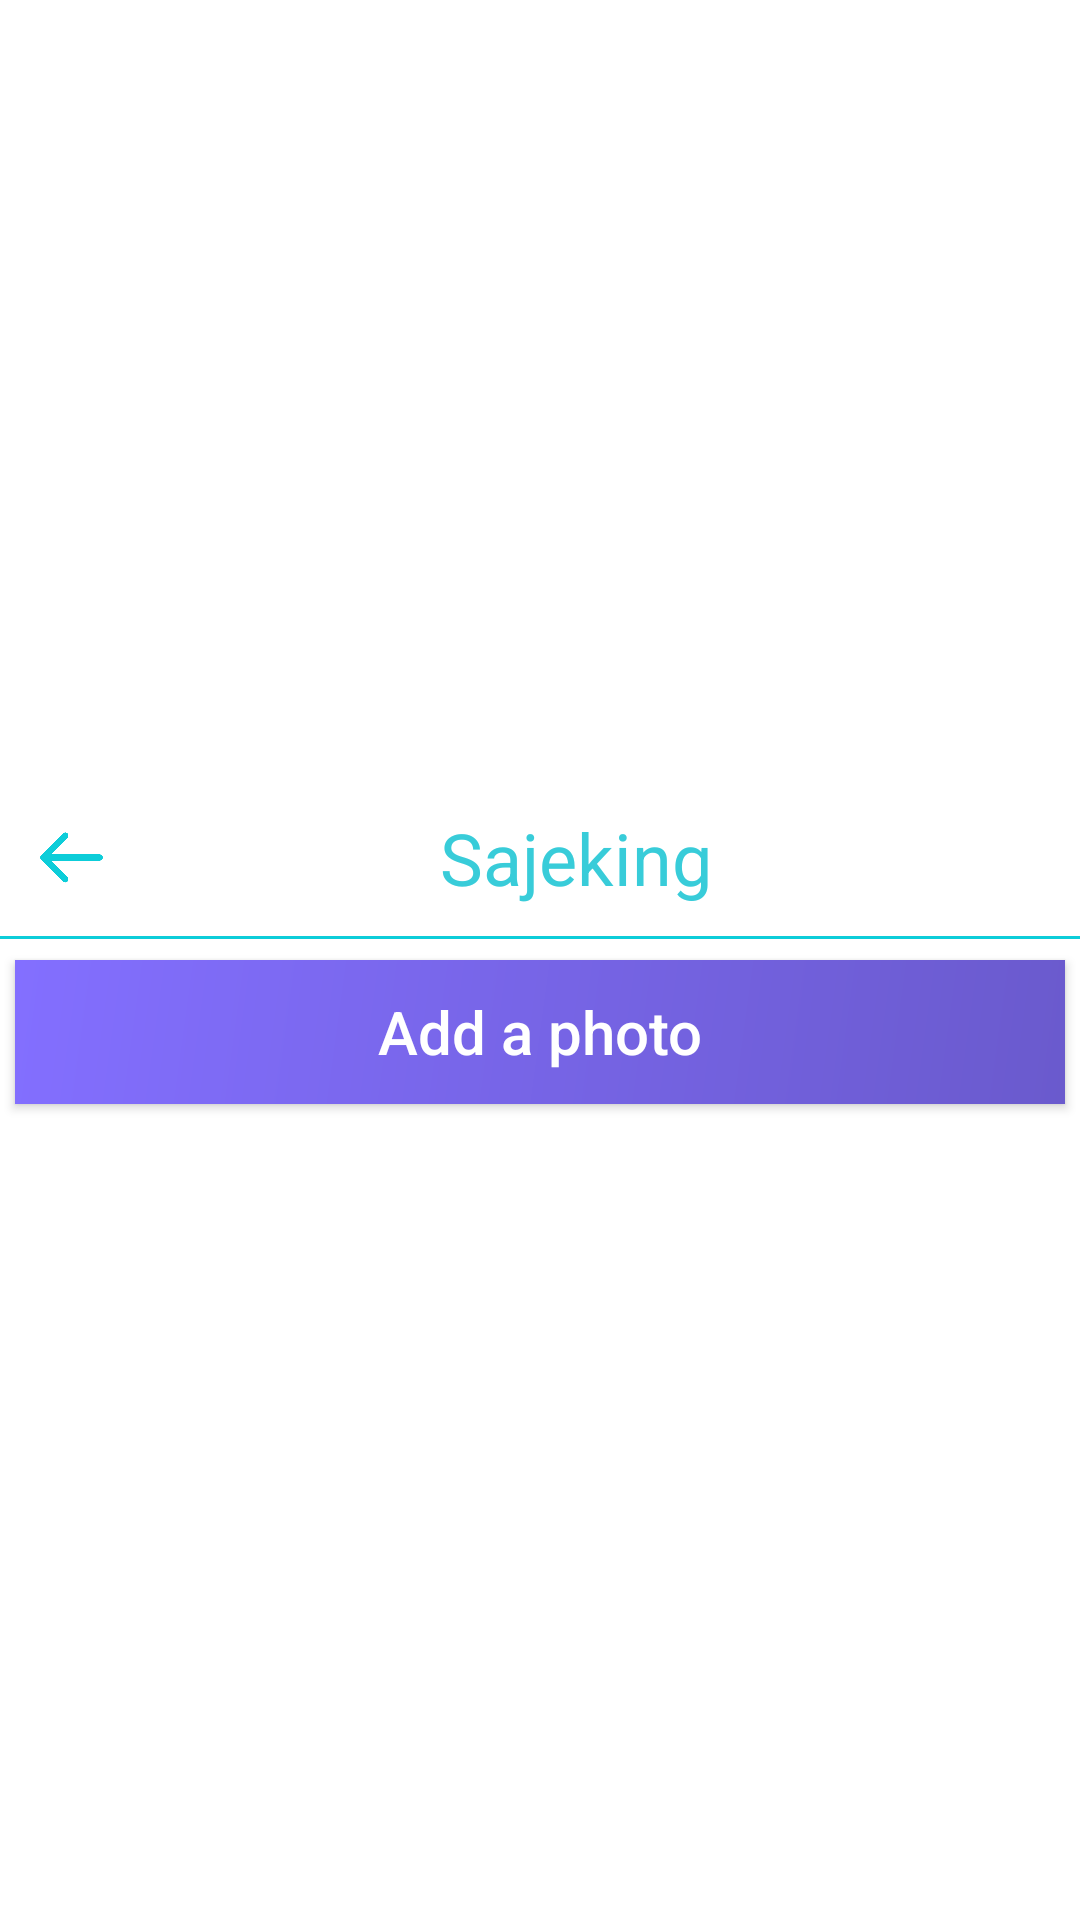

Screen size 1080×1920. Icon name, then its box in pixels as (x1, y1, x2, y2):
back left: (40, 832, 103, 883)
